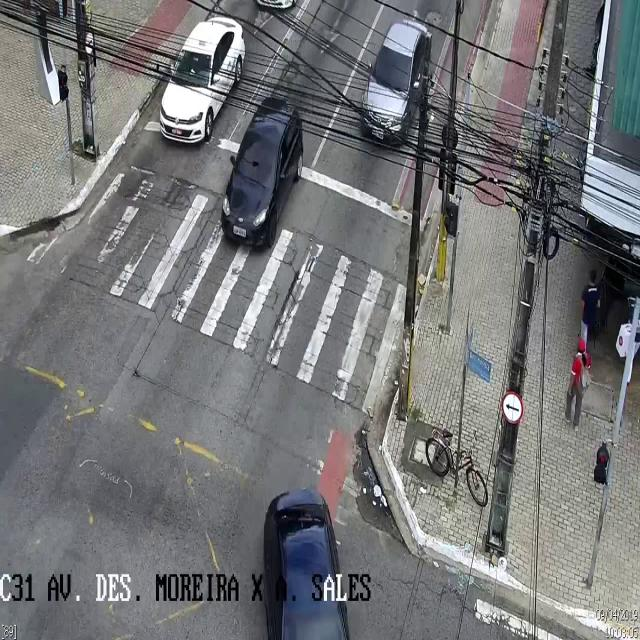Car: (262, 492, 346, 639), (222, 97, 304, 247), (160, 14, 244, 142), (360, 19, 430, 145)
